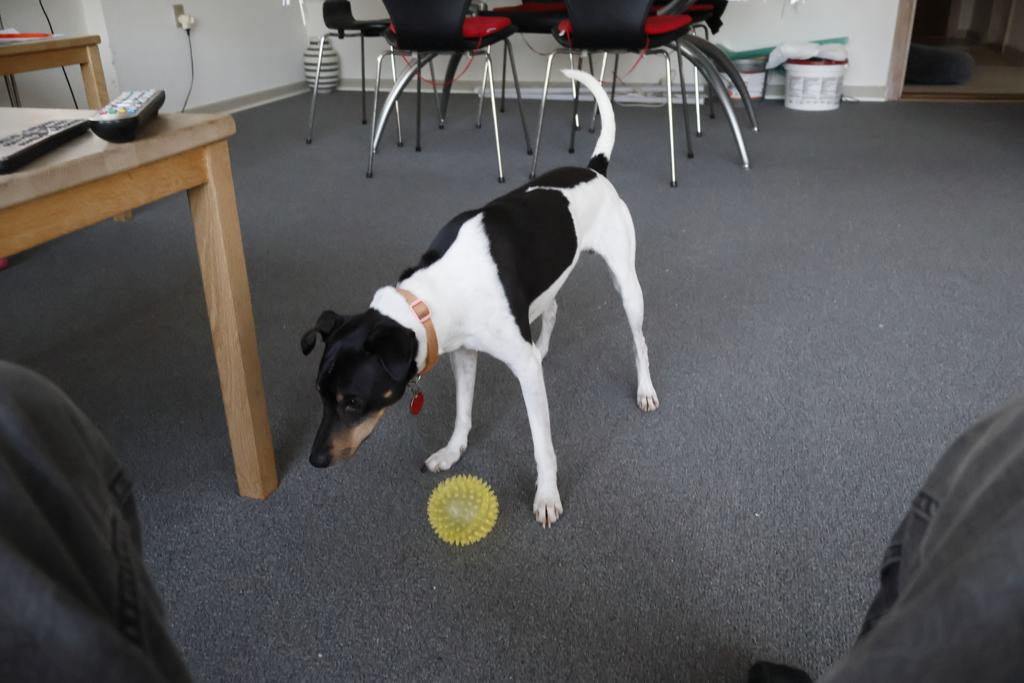Dog: (0, 343, 1024, 683), (290, 65, 670, 545)
